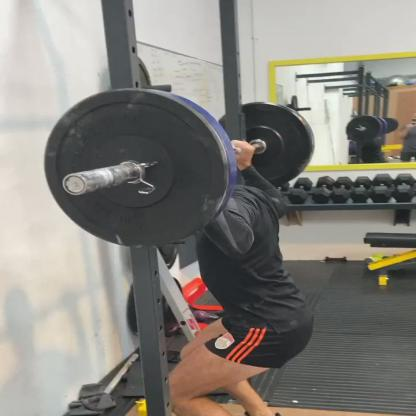Barbell: (28, 84, 247, 255)
